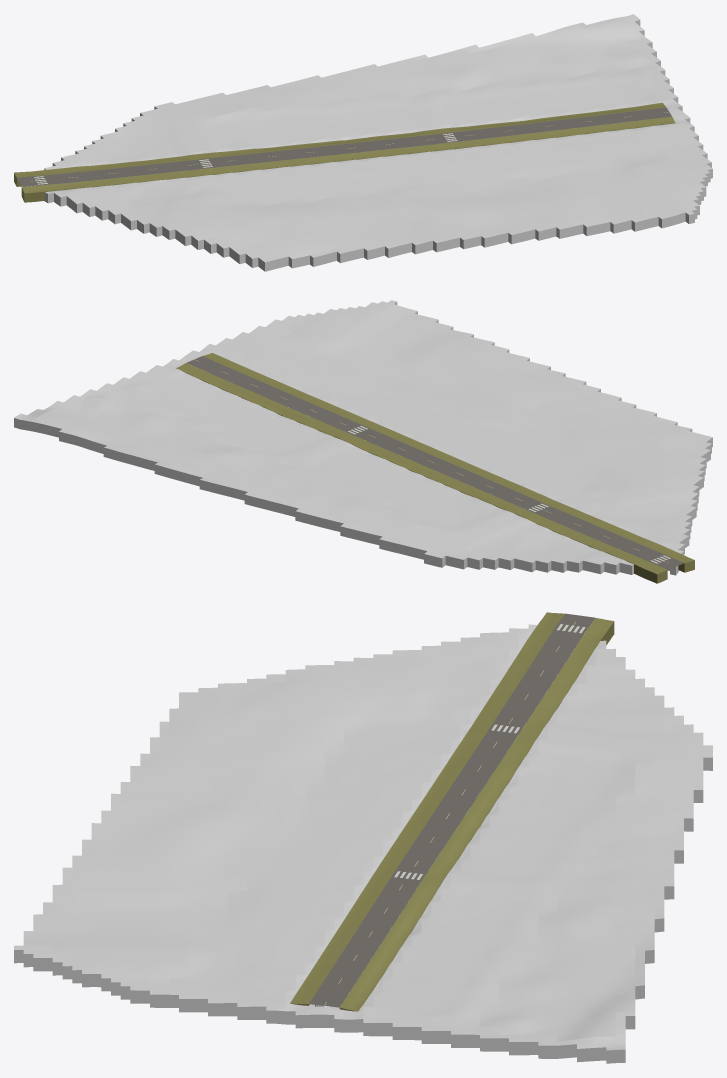
The model's file is conz_126.glb.
3 views of the same model, one above another, from view 1: azimuth 30°, elevation 25°; view 2: azimuth 150°, elevation 25°; view 3: azimuth 270°, elevation 25° (orthographic). The views are drawn at different scales.
Parts seen in each view (by area): view 1: terrain126, road126, verge126R, verge126L; view 2: terrain126, road126, verge126L, verge126R; view 3: terrain126, road126, verge126L, verge126R.
Part boxes in pixels (<box>): terrain126: <box>39,14,712,271</box>; road126: <box>17,107,671,186</box>; verge126R: <box>21,116,675,202</box>; verge126L: <box>14,102,665,186</box>; terrain126: <box>14,300,712,575</box>; road126: <box>186,356,683,569</box>; verge126L: <box>176,363,667,583</box>; verge126R: <box>203,353,694,572</box>; terrain126: <box>14,624,712,1063</box>; road126: <box>309,613,595,1007</box>; verge126L: <box>339,618,614,1011</box>; verge126R: <box>290,612,564,1006</box>.
Bounding box in the file's own units: 216 × 6.04 × 144.
